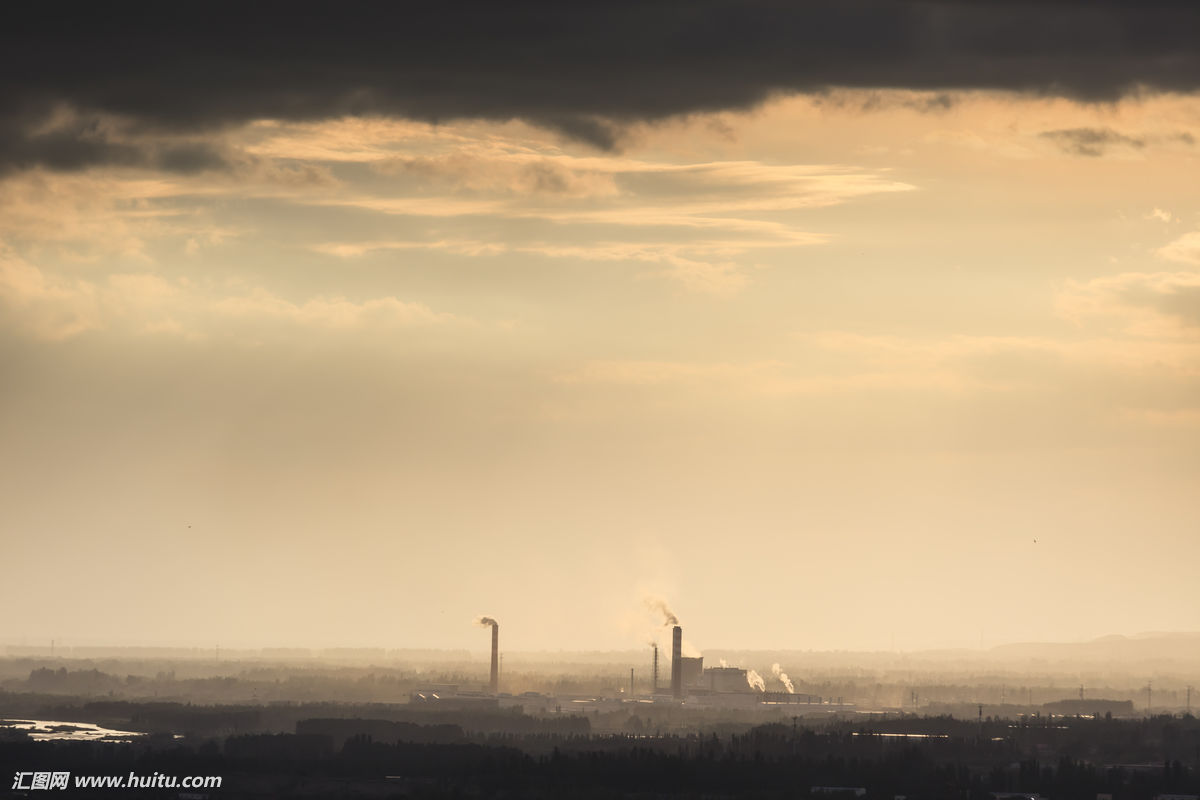dust: (454, 592, 508, 631), (650, 599, 684, 636)
